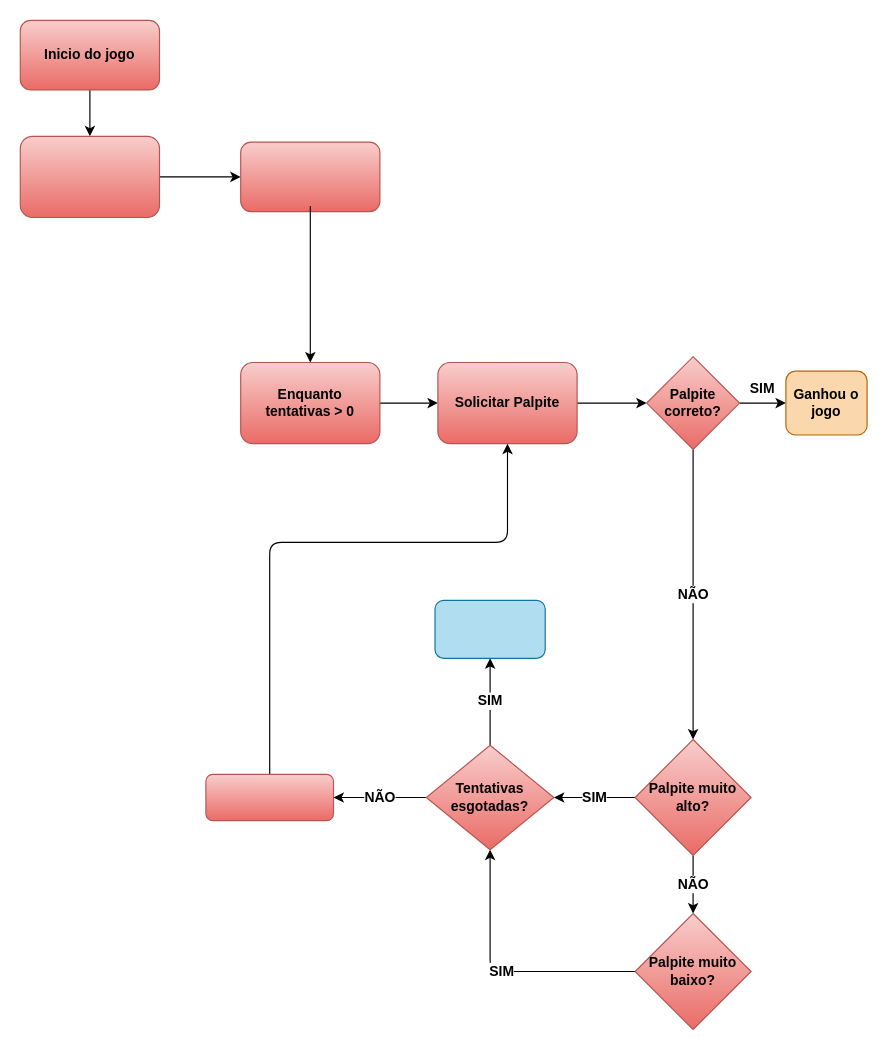
The diagram is 887 pixels wide and 1050 high, and some of its shapes have lost their labels. The shapes that lost their labels are listed below. From the top down, each one's centre as x and y in pixels, then its label:
At [89,176]: "Gerar número secreto aleatório".
At [310,176]: "Inicializar contador de tentativas".
At [489,628]: "Perdeu o jogo".
At [269,797]: "Reduz Tentativas".
